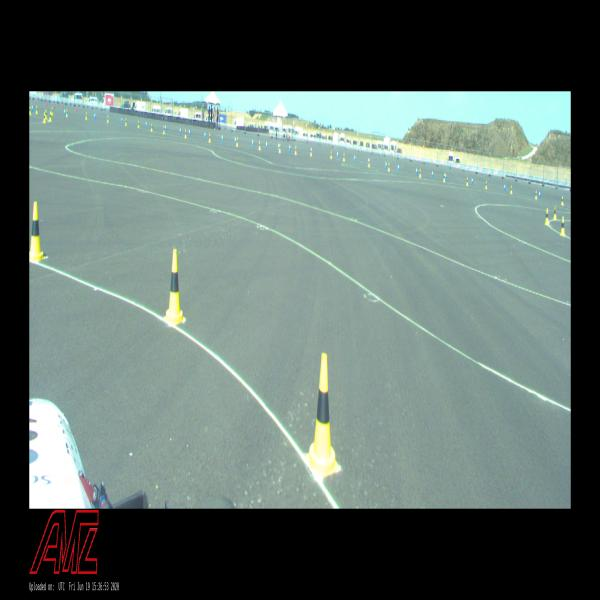blue_cone: (416, 166, 418, 174), (222, 134, 224, 142), (385, 160, 387, 168), (252, 139, 254, 146), (204, 131, 206, 138), (354, 154, 356, 161), (94, 112, 96, 119), (64, 108, 66, 115), (471, 177, 473, 183), (289, 144, 291, 150), (121, 116, 123, 122), (165, 124, 167, 130), (266, 140, 267, 148), (539, 190, 540, 198), (235, 136, 236, 144), (189, 128, 190, 136), (32, 104, 33, 112), (432, 170, 433, 178), (278, 142, 279, 150), (398, 163, 399, 171), (445, 172, 446, 180), (504, 183, 505, 190), (368, 157, 369, 164), (146, 120, 147, 126), (180, 128, 181, 134), (337, 151, 338, 157)
yellow_cone: (305, 354, 341, 478), (164, 249, 185, 324), (29, 202, 45, 260), (560, 216, 566, 235), (545, 209, 549, 224), (553, 207, 557, 220), (43, 112, 46, 122), (561, 196, 564, 205), (236, 137, 238, 146), (535, 190, 537, 199), (510, 185, 512, 194), (443, 173, 445, 182), (294, 146, 296, 155), (49, 112, 51, 121), (388, 162, 390, 171), (209, 134, 211, 142), (419, 169, 421, 177), (258, 141, 260, 149), (485, 180, 487, 188), (368, 159, 370, 167), (343, 153, 345, 161), (466, 177, 468, 185), (330, 150, 332, 158), (310, 148, 312, 156), (163, 126, 165, 134), (45, 110, 47, 118), (279, 144, 281, 152), (29, 106, 31, 114), (125, 118, 127, 125), (36, 106, 38, 113), (107, 115, 109, 122), (51, 108, 53, 114), (66, 110, 68, 116), (185, 129, 186, 138), (138, 120, 139, 128), (151, 124, 152, 131), (86, 112, 87, 119)
